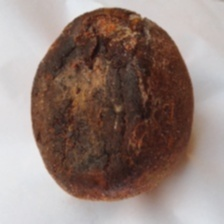guava: (38, 44, 173, 189)
